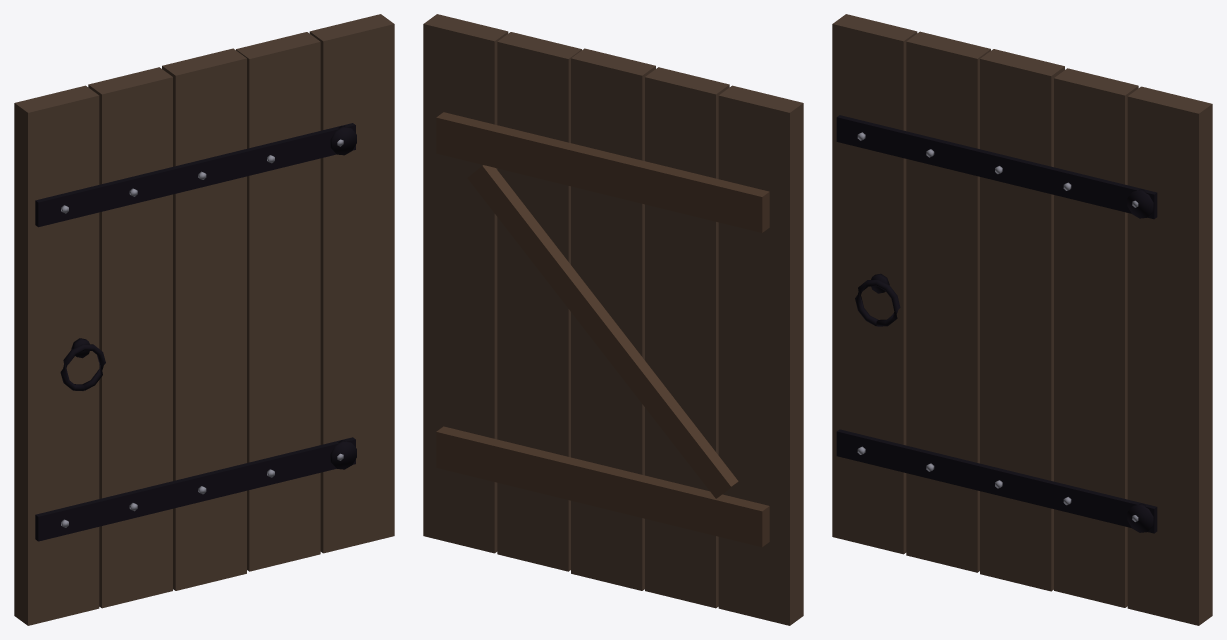
File: door_wood.glb
3 renders of one model, left to right at view 1: azimuth 30°, elevation 25°; view 2: azimuth 150°, elevation 25°; view 3: azimuth 330°, elevation 25°, orthographic.
Parts seen in each view (by area): view 1: door_wood; view 2: door_wood; view 3: door_wood.
Boxes of the visible parts, x1,y1,x2,y2 form: door_wood: (14, 14, 394, 625); door_wood: (423, 14, 803, 625); door_wood: (832, 14, 1212, 625).
Size of the model in its own units: 0.854 by 1.15 by 0.112.
